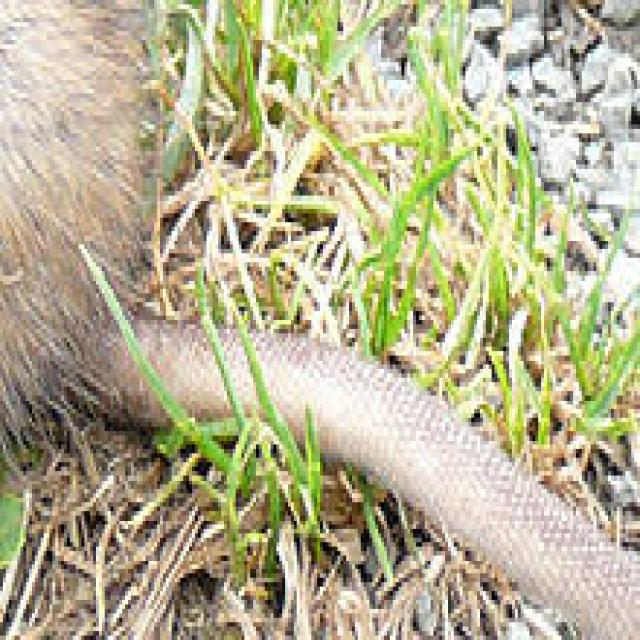rat: (0, 0, 637, 636)
